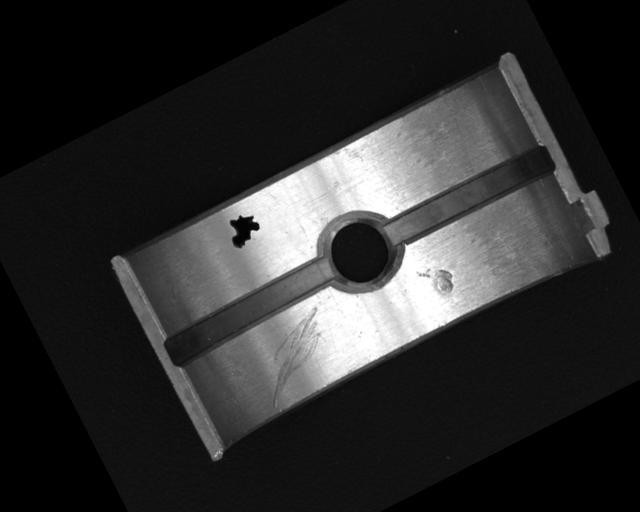blot: (222, 208, 266, 252)
bruise: (415, 256, 459, 302)
gap: (160, 252, 344, 369), (381, 141, 558, 252)
hole: (307, 200, 410, 303)
nick: (240, 306, 348, 409)
